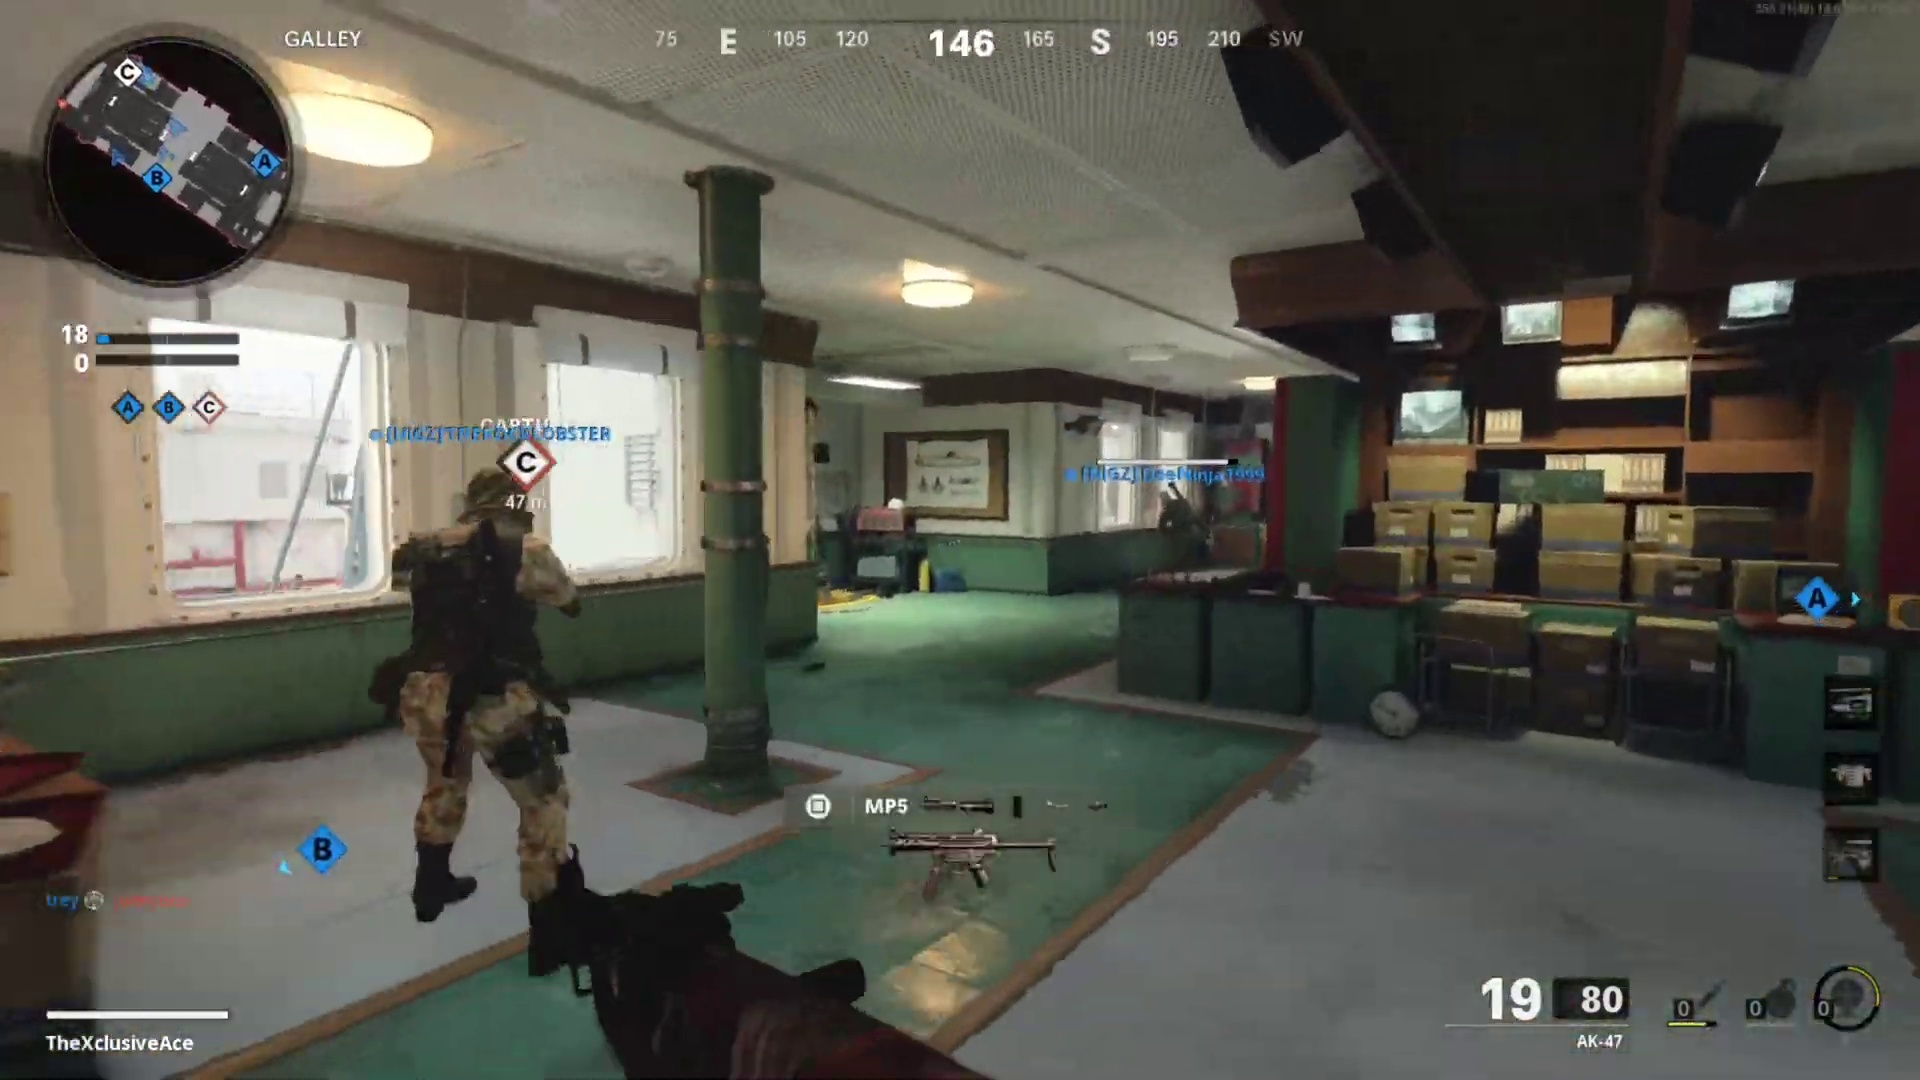person: (372, 456, 580, 921), (1160, 483, 1209, 567)
